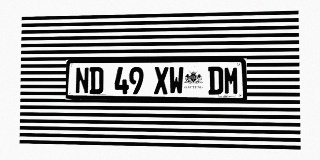4: (114, 67, 129, 94)
9: (129, 67, 143, 94)
D: (208, 66, 223, 95), (89, 67, 103, 94)
M: (224, 66, 239, 95)
N: (75, 67, 89, 94)
W: (169, 67, 184, 94)
X: (154, 67, 168, 94)
